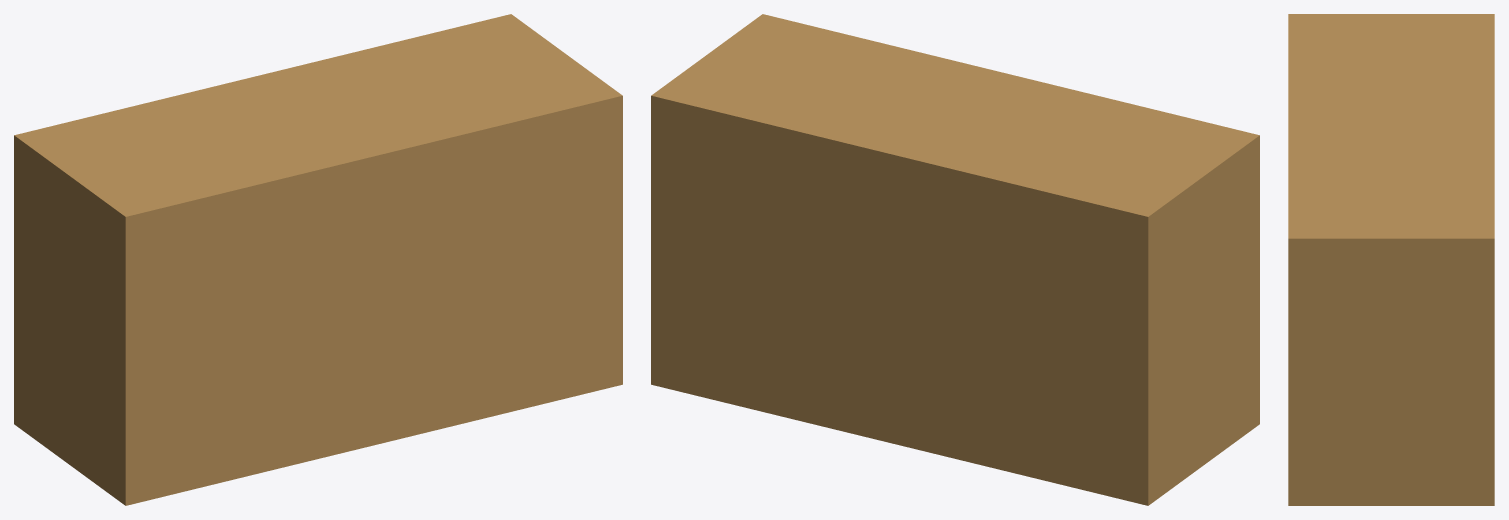
3 renders of one model, left to right at view 1: azimuth 30°, elevation 25°; view 2: azimuth 150°, elevation 25°; view 3: azimuth 270°, elevation 25°, orthographic. The views are drawn at different scales.
Visible parts, largest first — view 1: RUN-027-S00-STUD-00-p3; view 2: RUN-027-S00-STUD-00-p3; view 3: RUN-027-S00-STUD-00-p3.
Part boxes in pixels (x1=…): RUN-027-S00-STUD-00-p3: x1=14, y1=14, x2=622, y2=505; RUN-027-S00-STUD-00-p3: x1=651, y1=14, x2=1259, y2=505; RUN-027-S00-STUD-00-p3: x1=1288, y1=14, x2=1494, y2=505.
Bounding box in the file's own units: 0.09 × 0.05 × 0.035.
